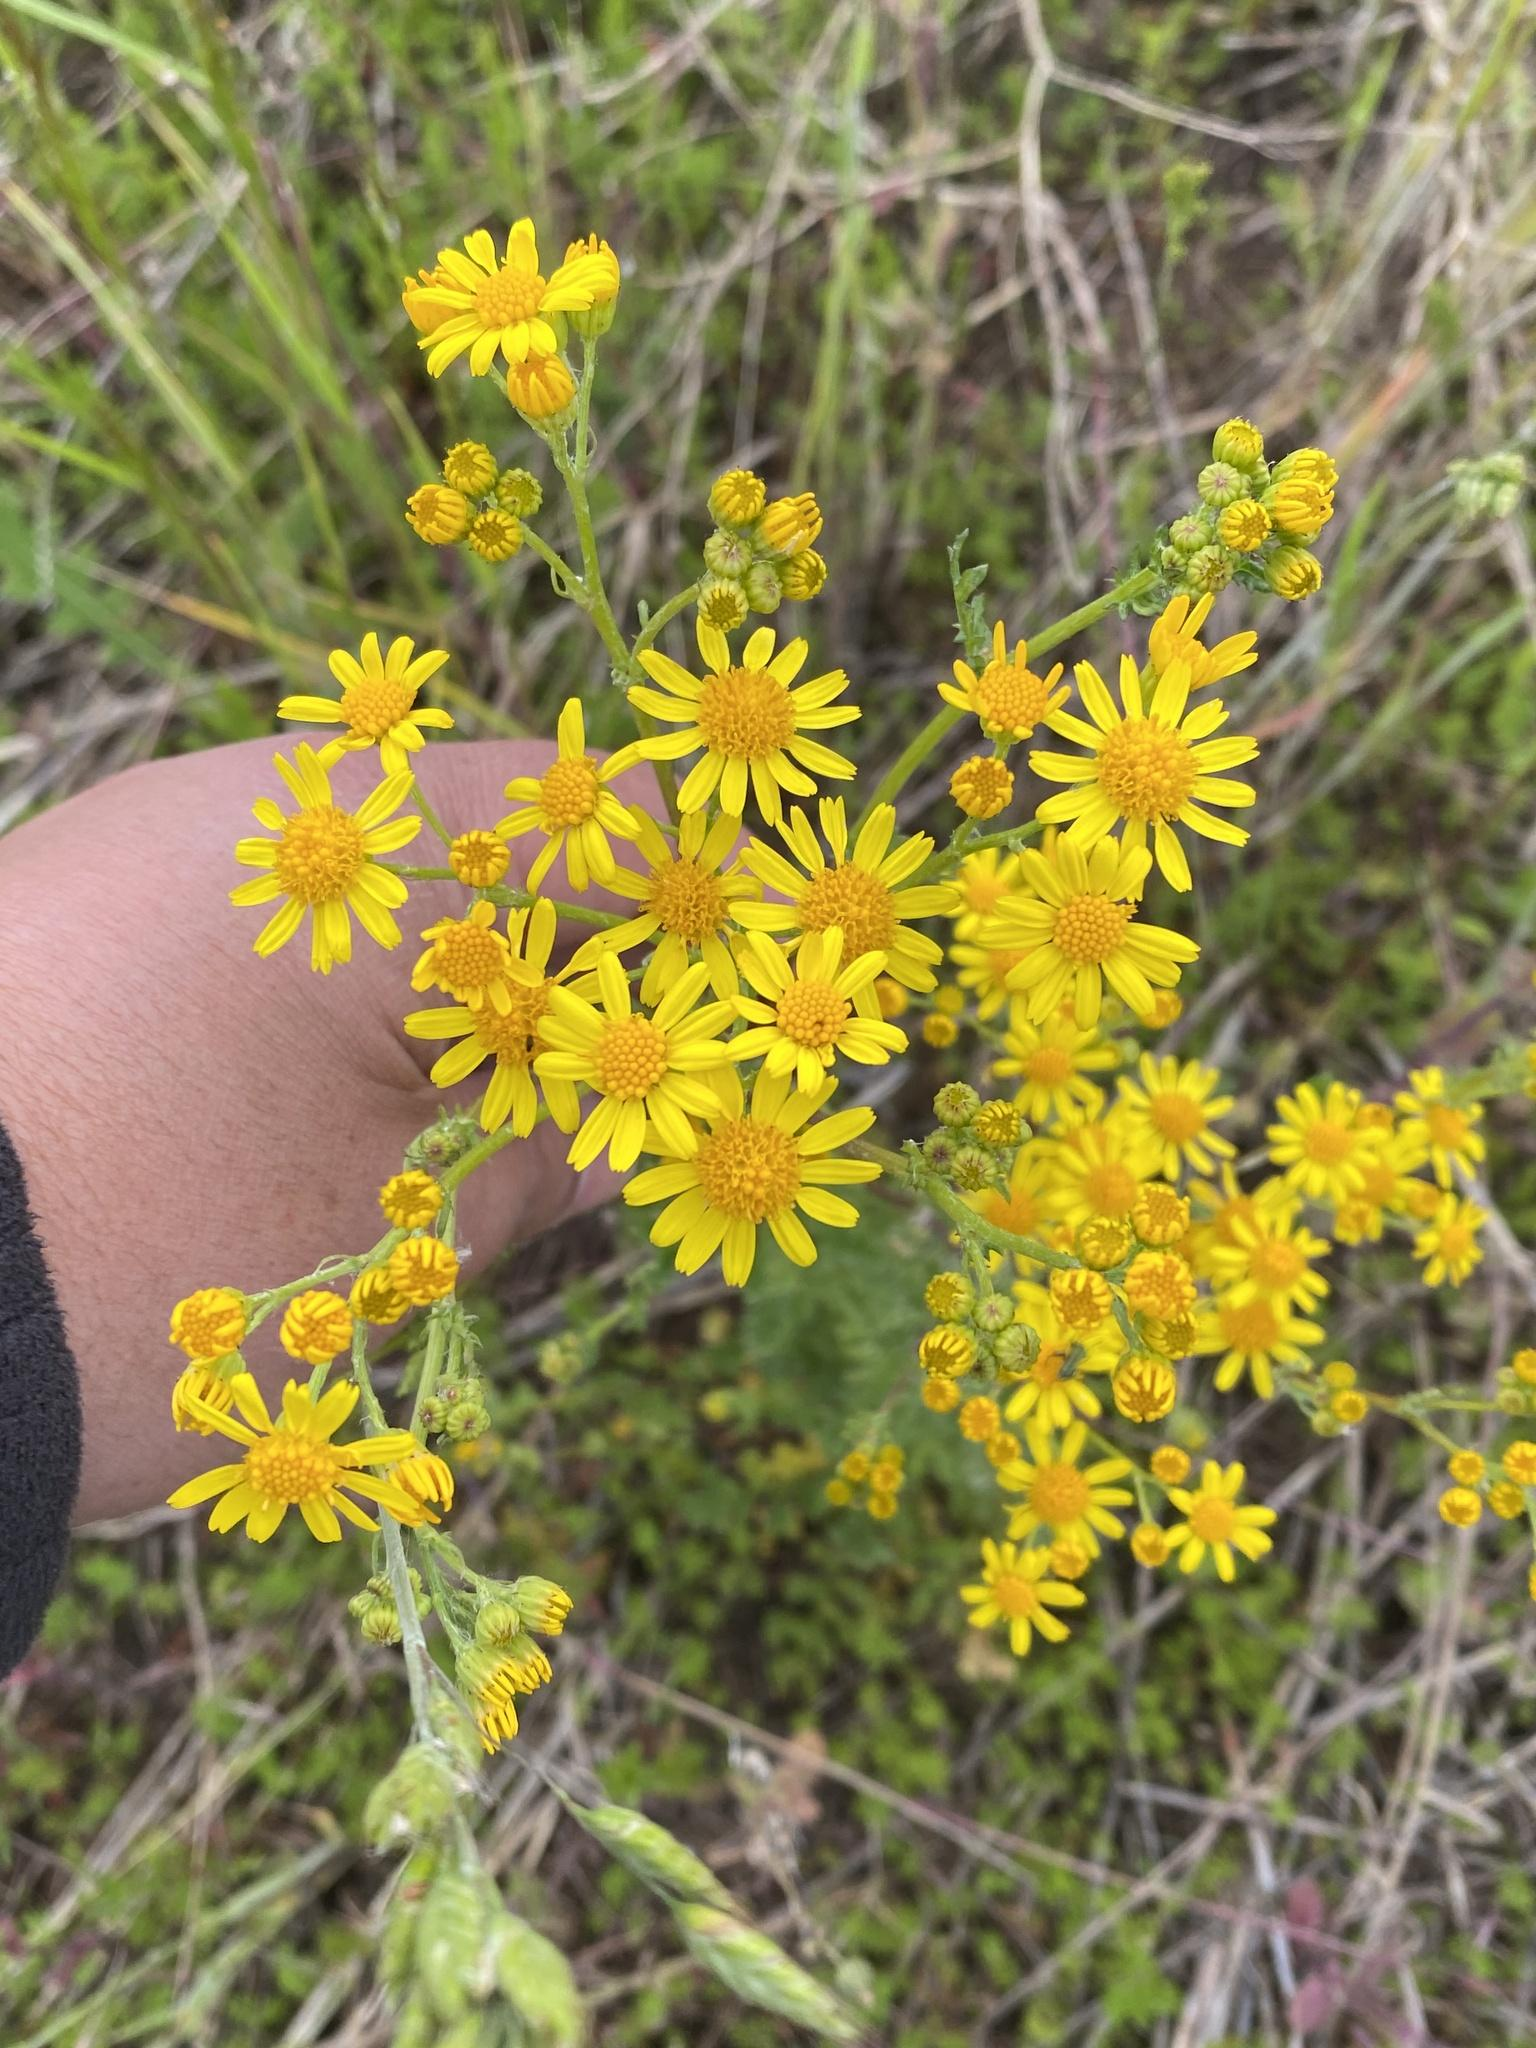Jacobaea vulgaris: (137, 197, 1536, 1806)
